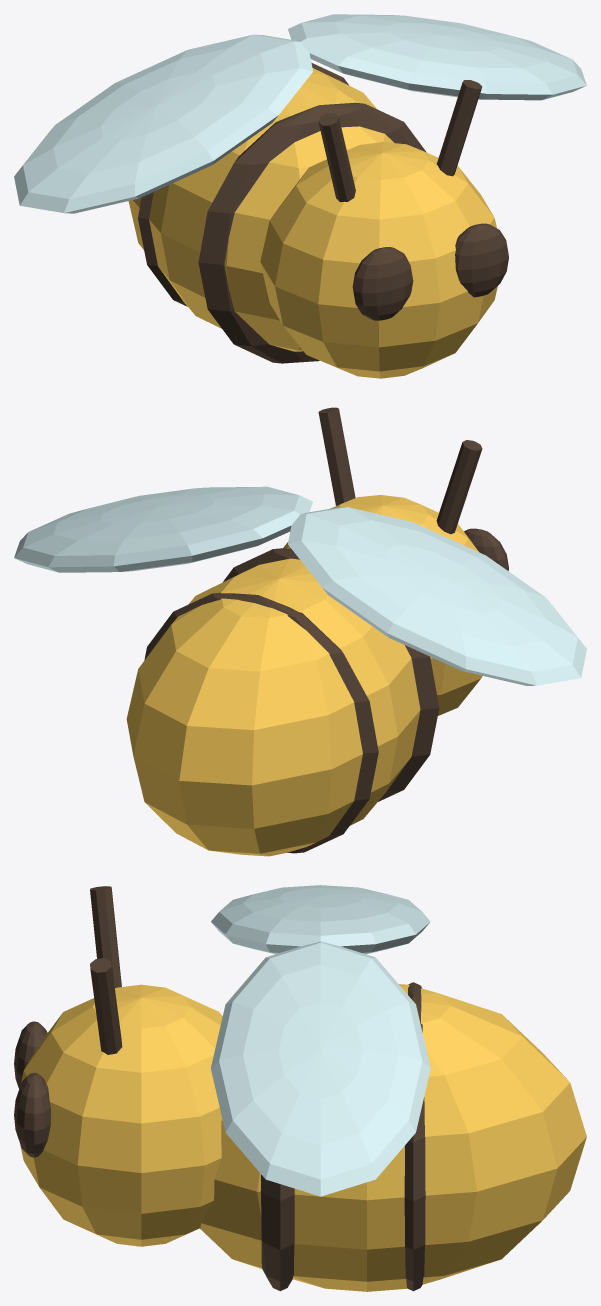
File: Bee.fbx
3 views of the same model, one above another, from view 1: azimuth 30°, elevation 25°; view 2: azimuth 150°, elevation 25°; view 3: azimuth 270°, elevation 25° (orthographic). The views are drawn at different scales.
Parts seen in each view (by area): view 1: Bee head, Wing, Bee abdomen, Wing.001, Bee stripe, Eye.002, Eye.003, Antenna.003, Antenna.002, Bee stripe.001; view 2: Bee abdomen, Wing, Wing.001, Bee stripe.001, Bee head, Bee stripe, Antenna.003, Antenna.002, Eye.002; view 3: Bee abdomen, Wing.001, Bee head, Wing, Bee stripe.001, Bee stripe, Eye.003, Antenna.003, Antenna.002, Eye.002.
Part boxes in pixels (bbox=[...]): Bee head: bbox=[260, 142, 497, 378]; Wing: bbox=[14, 34, 312, 213]; Bee abdomen: bbox=[128, 68, 393, 351]; Wing.001: bbox=[288, 14, 586, 100]; Bee stripe: bbox=[198, 102, 426, 363]; Eye.002: bbox=[352, 247, 413, 320]; Eye.003: bbox=[455, 223, 508, 297]; Antenna.003: bbox=[436, 80, 482, 176]; Antenna.002: bbox=[318, 113, 355, 202]; Bee stripe.001: bbox=[138, 62, 349, 306]; Bee abdomen: bbox=[126, 558, 420, 856]; Wing: bbox=[288, 507, 586, 685]; Wing.001: bbox=[14, 486, 312, 572]; Bee stripe.001: bbox=[144, 592, 378, 853]; Bee head: bbox=[283, 495, 482, 715]; Bee stripe: bbox=[223, 548, 439, 801]; Antenna.003: bbox=[318, 407, 355, 505]; Antenna.002: bbox=[436, 440, 482, 534]; Eye.002: bbox=[464, 528, 508, 570]; Bee abdomen: bbox=[200, 984, 586, 1291]; Wing.001: bbox=[211, 941, 430, 1196]; Bee head: bbox=[20, 984, 222, 1246]; Wing: bbox=[211, 885, 430, 954]; Bee stripe.001: bbox=[404, 982, 425, 1291]; Bee stripe: bbox=[260, 1174, 294, 1291]; Eye.003: bbox=[14, 1072, 50, 1157]; Antenna.003: bbox=[90, 958, 122, 1054]; Antenna.002: bbox=[90, 886, 121, 988]; Eye.002: bbox=[14, 1021, 47, 1088].
Size of the model in its own units: 123 by 67.57 by 99.
